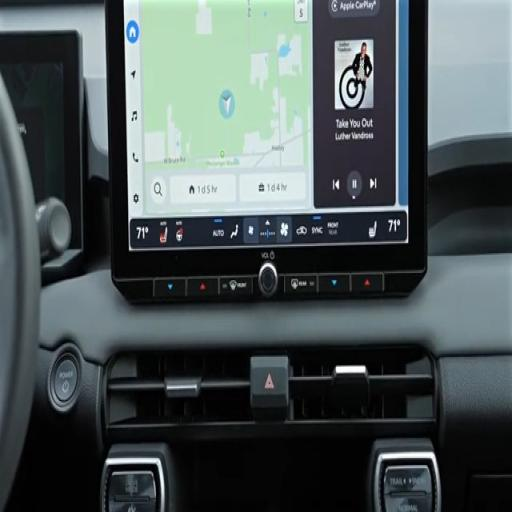windshield: (428, 0, 511, 146)
